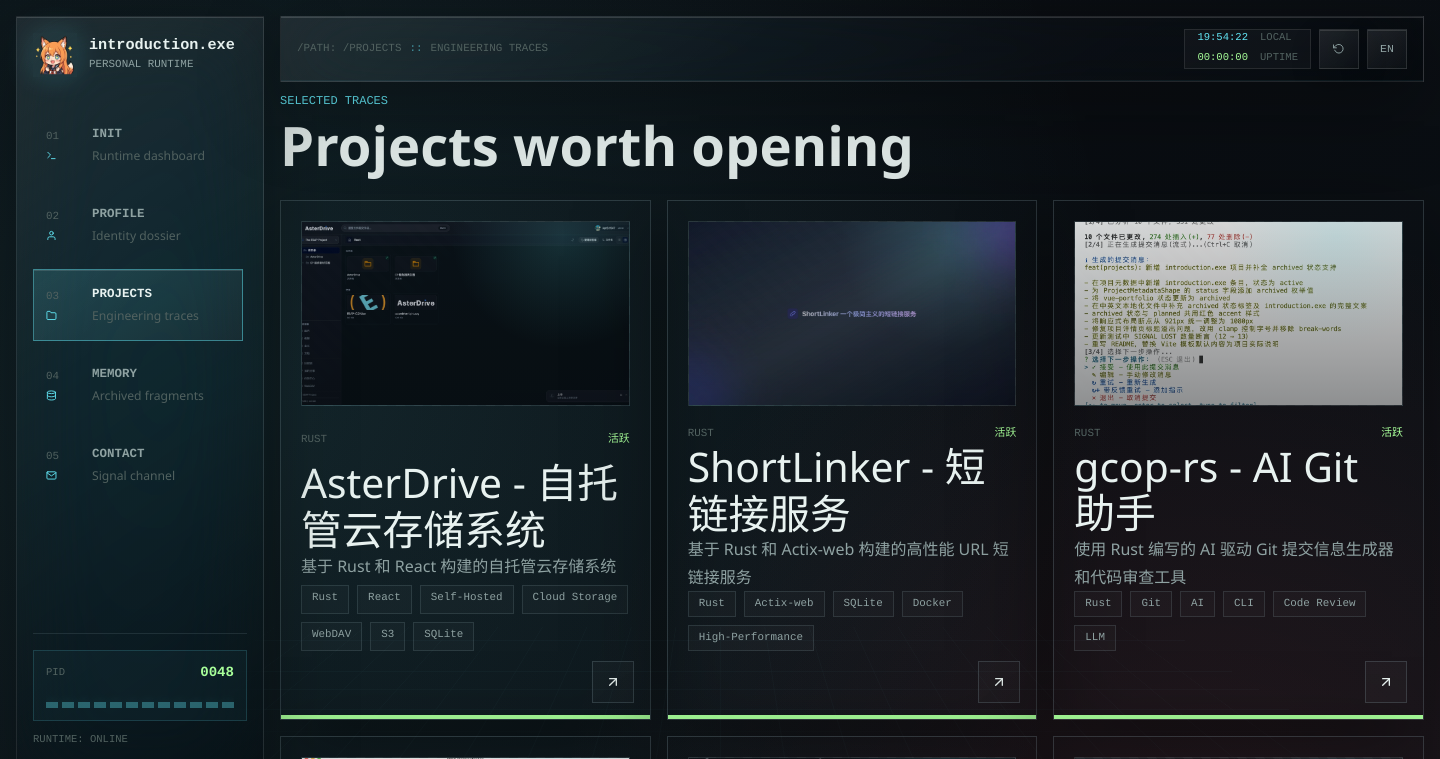
layout shell › renders the app shell route and can restart boot
expect the heading "Projects worth opening" is shown: met, box [280,108,914,182]
Click the button named "重启": (1339, 49) [1319,29,1359,69]
Wait 2850 ms
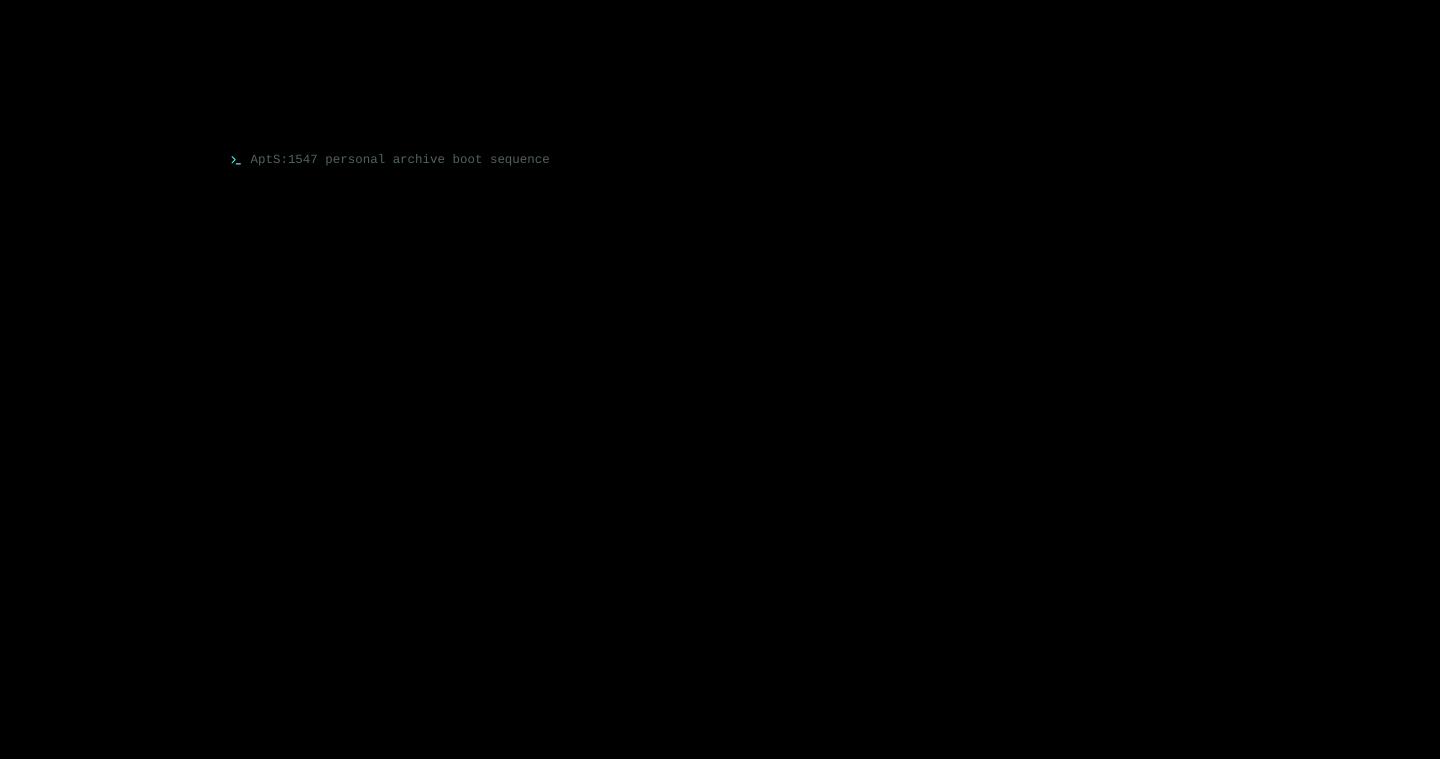
expect the text "AptS:1547 personal archive boot sequence" is shown: met, box [230,153,550,167]
